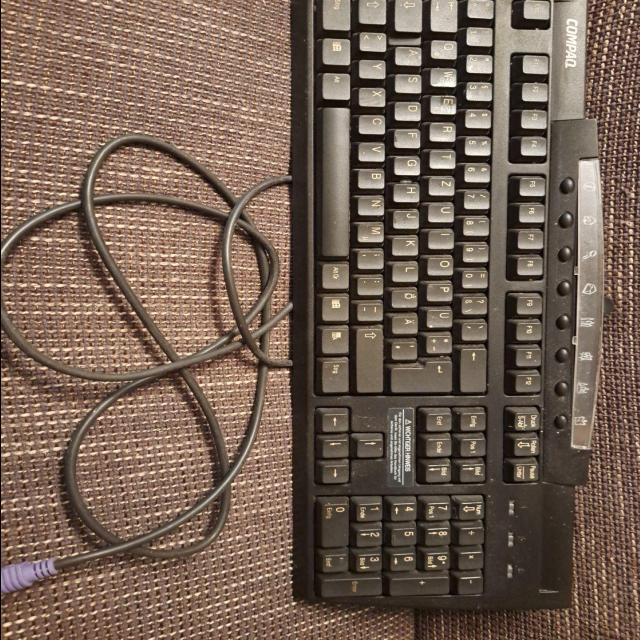0: (462, 267, 490, 289)
1: (467, 26, 495, 47)
2: (467, 53, 495, 74)
3: (466, 81, 494, 101)
4: (466, 108, 494, 128)
5: (465, 135, 494, 156)
6: (464, 161, 492, 183)
7: (463, 188, 492, 210)
8: (462, 214, 491, 236)
9: (462, 241, 491, 263)
a: (396, 45, 424, 65)
accent: (462, 318, 490, 340)
ae: (392, 312, 421, 334)
alt-left: (322, 71, 352, 99)
altgr-right: (322, 261, 352, 289)
b: (358, 167, 388, 189)
c: (359, 113, 387, 134)
caret: (468, 0, 497, 18)
comma: (357, 247, 386, 269)
d: (396, 100, 424, 120)
del: (460, 345, 490, 393)
e: (430, 94, 458, 114)
enter: (390, 357, 456, 393)
f: (395, 127, 423, 148)
g: (395, 155, 423, 175)
h: (394, 181, 422, 203)
hash: (391, 337, 420, 359)
i: (428, 228, 456, 250)
j: (393, 208, 422, 229)
k: (392, 234, 421, 256)
keyboard: (291, 0, 605, 612)
l: (392, 260, 421, 282)
less: (360, 31, 388, 52)
m: (358, 221, 387, 243)
minus: (358, 300, 386, 320)
n: (358, 194, 387, 216)
o: (428, 254, 456, 276)
oe: (392, 287, 420, 308)
p: (427, 280, 455, 302)
plus: (425, 331, 455, 353)
point: (357, 274, 385, 295)
q: (431, 38, 459, 60)
r: (430, 122, 458, 142)
s: (396, 73, 424, 93)
shift-left: (358, 0, 388, 24)
shift-lock: (395, 0, 424, 32)
shift-right: (357, 326, 385, 393)
space: (321, 105, 353, 257)
ss: (461, 293, 490, 315)
strg-left: (323, 0, 353, 30)
strg-right: (320, 358, 351, 394)
t: (430, 149, 458, 169)
tab: (431, 0, 460, 32)
u: (429, 201, 457, 222)
ue: (426, 306, 456, 328)
v: (359, 141, 388, 161)
w: (431, 67, 459, 87)
x: (359, 86, 388, 107)
y: (359, 58, 387, 78)
z: (429, 176, 457, 196)
